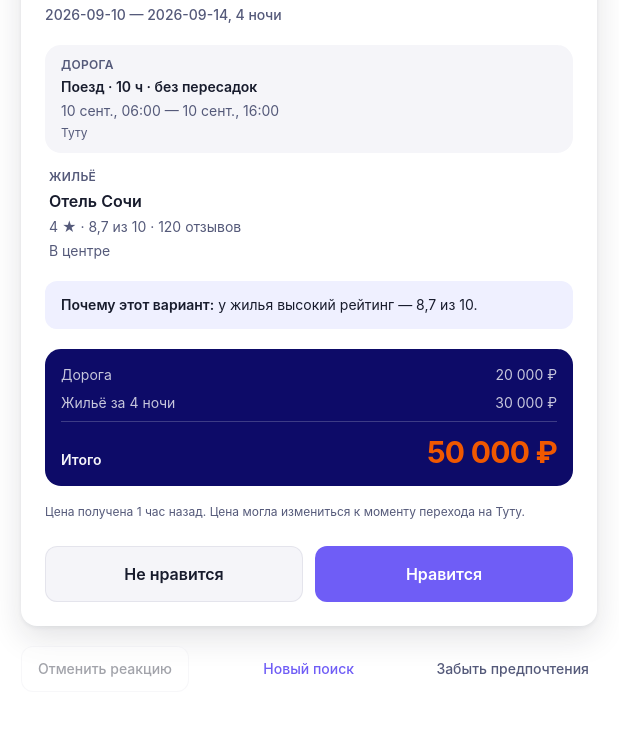
Test case: swipe feed › shows learned preferences beside the feed only after enough reactions
(page scrolled)
Click the button "Нравится" at point(444, 574), box [315, 546, 573, 602]
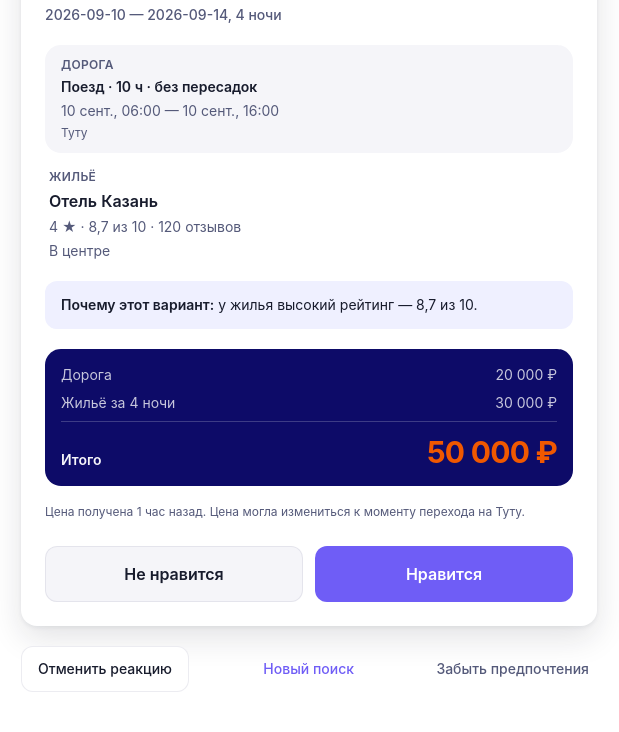
Check: the text "предпочитаете быстрые поездки" is not shown
Click the button "Нравится" at point(444, 574), box [315, 546, 573, 602]
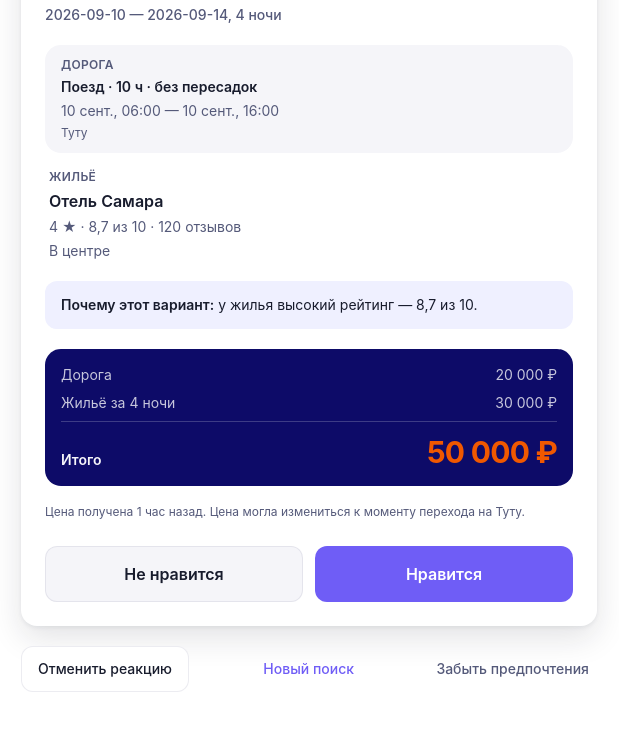
Check: the text "предпочитаете быстрые поездки" is not shown
Click the button "Нравится" at point(444, 574), box [315, 546, 573, 602]
(page scrolled)
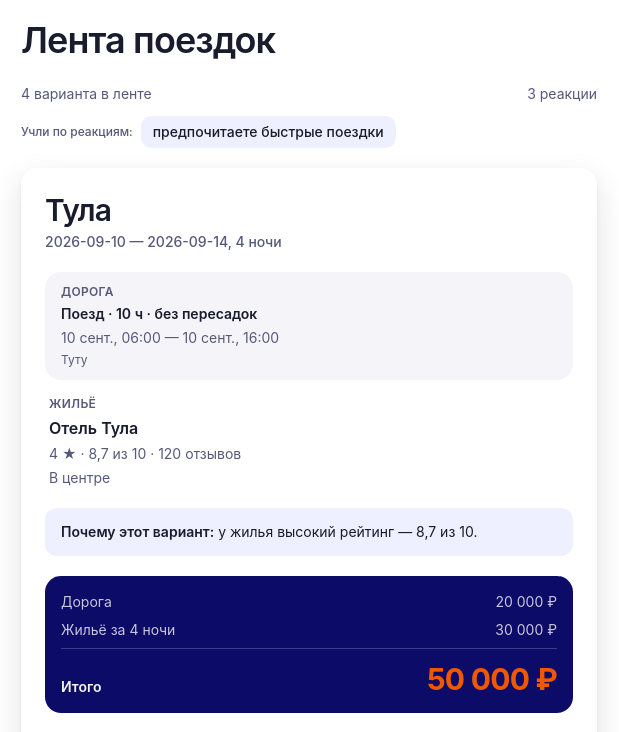
Check: the text "предпочитаете быстрые поездки" is shown, box [141, 116, 396, 148]
